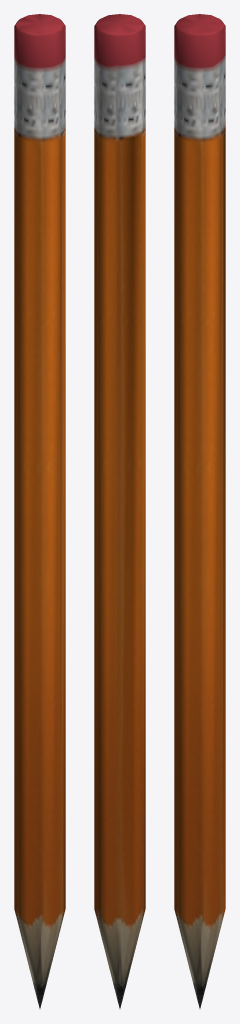
The model's file is MeshRobothorPencil_0.obj.
3 renders of one model, left to right at view 1: azimuth 30°, elevation 25°; view 2: azimuth 210°, elevation 25°; view 3: azimuth 270°, elevation 25°, orthographic.
Parts seen in each view (by area): view 1: RobothorPencil; view 2: RobothorPencil; view 3: RobothorPencil.
Boxes of the visible parts, x1,y1,x2,y2 form: RobothorPencil: (14, 14, 65, 1008); RobothorPencil: (94, 14, 145, 1008); RobothorPencil: (174, 14, 225, 1008).
Bounding box in the file's own units: 0.00872 × 0.1883 × 0.00883.
Materials: 1 (1 with a texture image).
